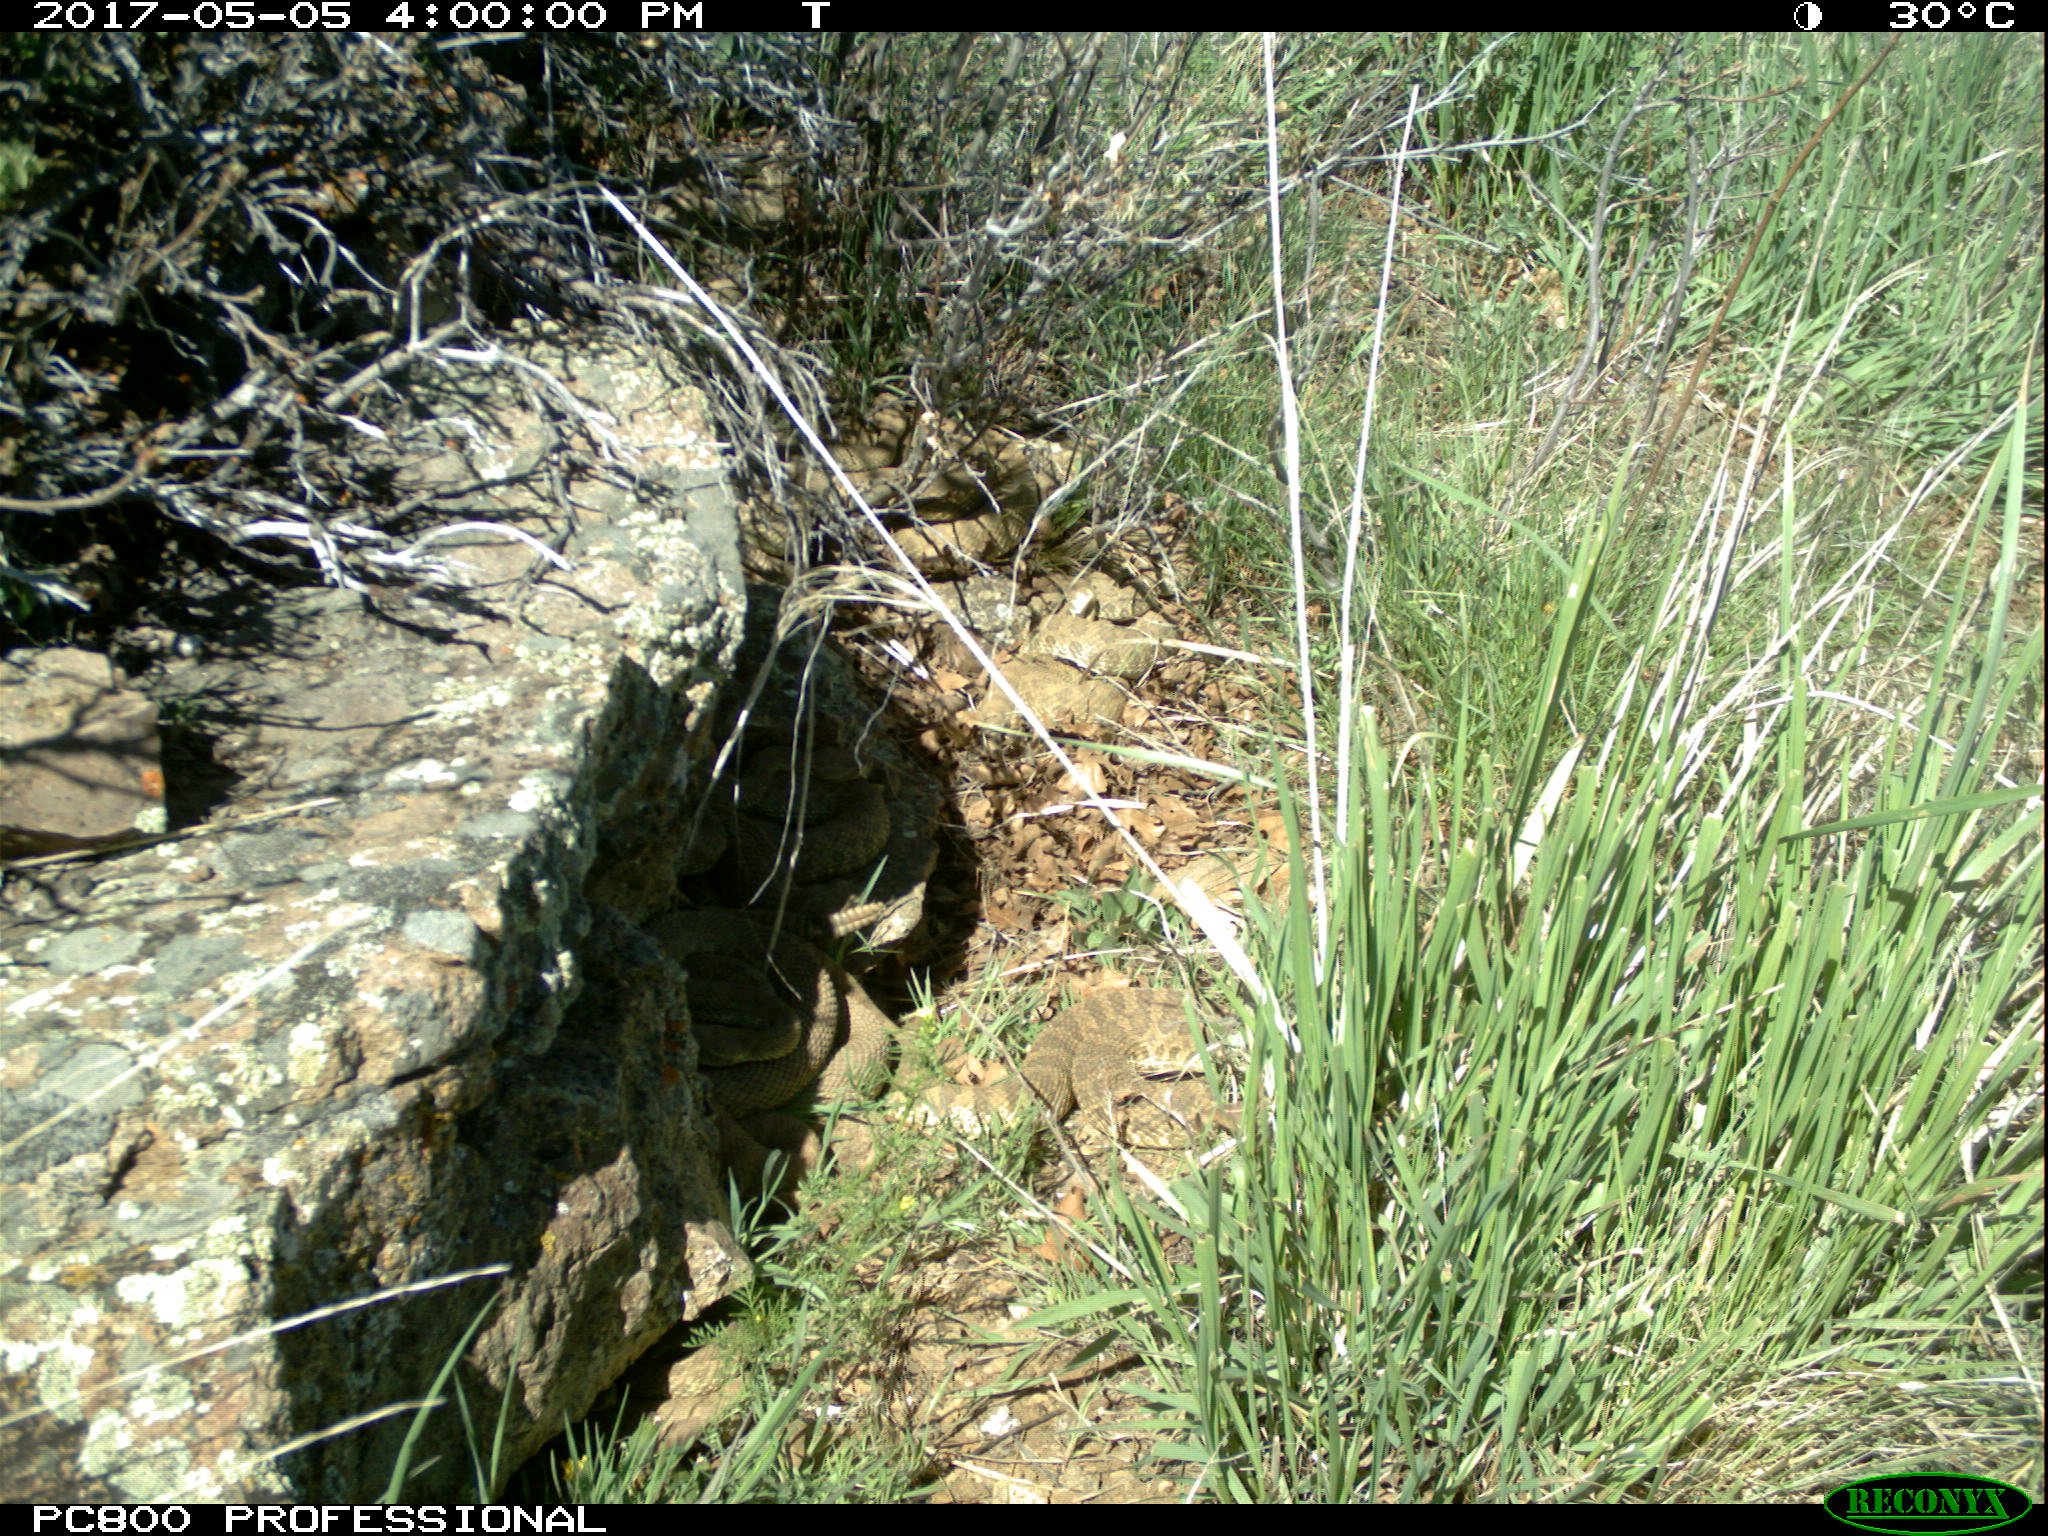snake: (959, 984, 1256, 1158), (664, 918, 906, 1120), (951, 594, 1193, 737), (853, 428, 1085, 565), (731, 749, 906, 886), (631, 1347, 780, 1433)
